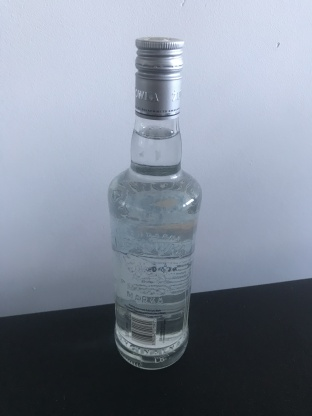nakretka: (133, 38, 185, 121)
